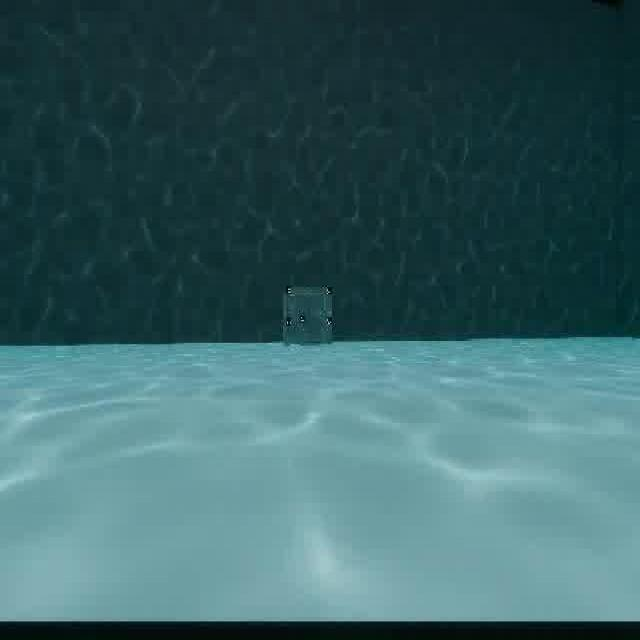Docking Station: (279, 274, 338, 354)
